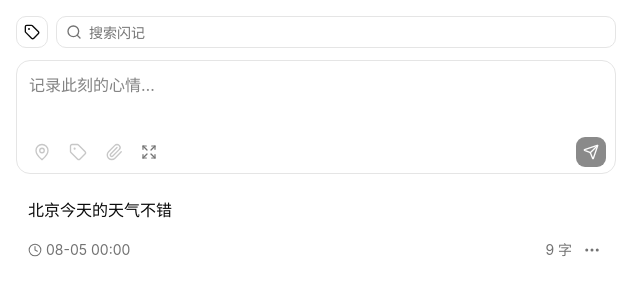
Test: MomentList 搜索 › 点击清除按钮清空关键词，恢复全量列表
Check: the text "北京今天的天气不错" is shown, box [28, 200, 172, 220]
Type "beijing" into the field with placeholder "搜索闪记".
click(336, 32); type("beijing")  # box [56, 16, 616, 48]
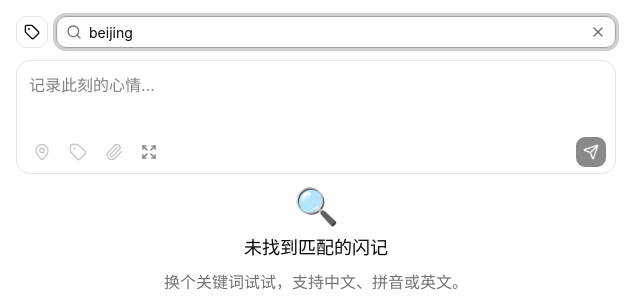
Check: the heading "未找到匹配的闪记" is shown, box [244, 234, 388, 262]
Click the button named "清除搜索".
click(598, 32)  # box [586, 20, 610, 44]
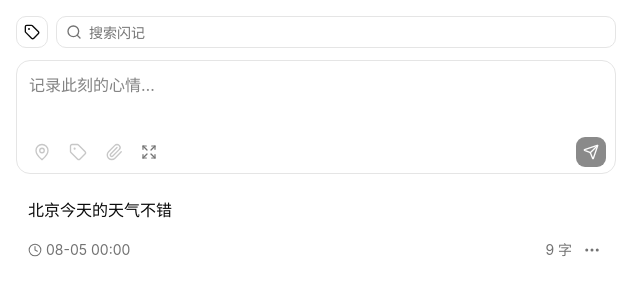
Check: the text "北京今天的天气不错" is shown, box [28, 200, 172, 220]
